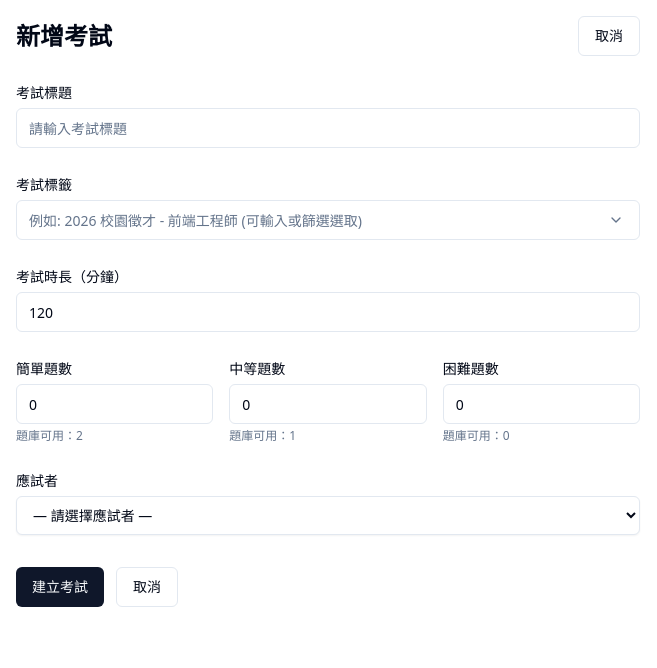
ExamFormPage › renders submit failure error message
The width and height of the screenshot is (657, 668).
Expected: the heading "新增考試" is shown, [16,20,112,52]
Type "Final Exam" into the field labelled "考試標題" at [328, 128], box [16,108,640,148]
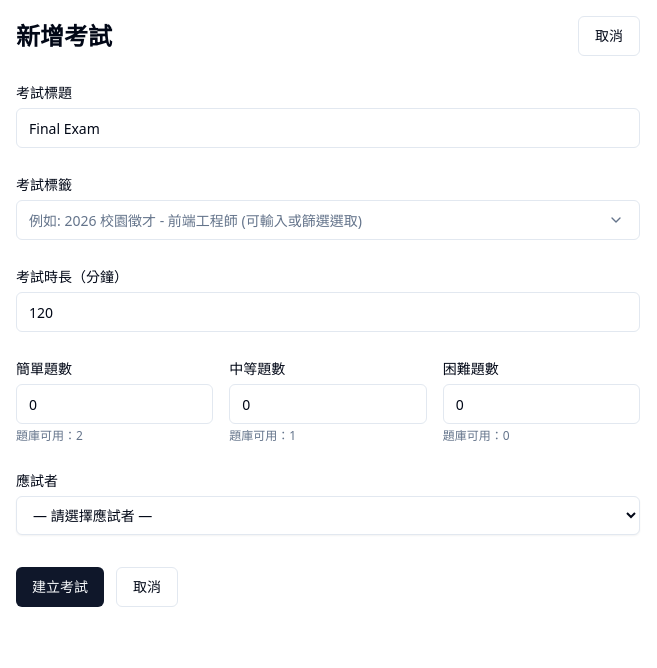
Select "Candidate One" in the dropdown labelled "應試者" at [328, 516], box [16,496,640,535]
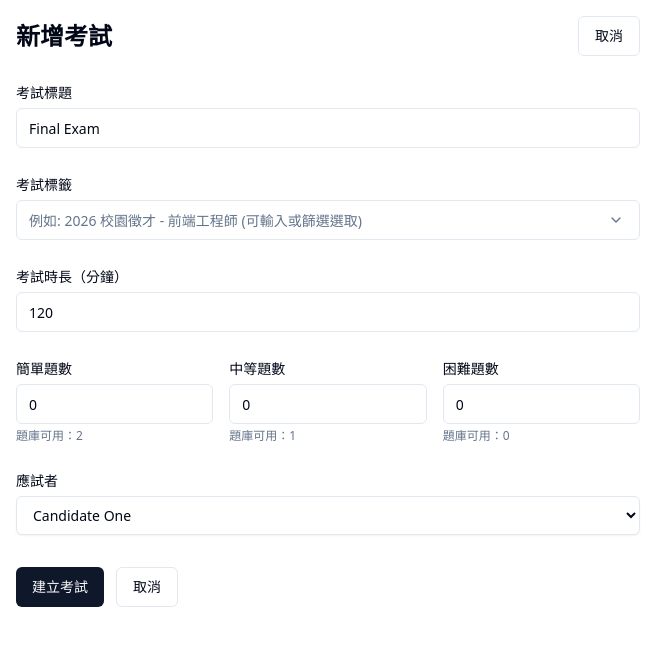
Click the button "建立考試" at [60, 587], box [16,567,104,607]
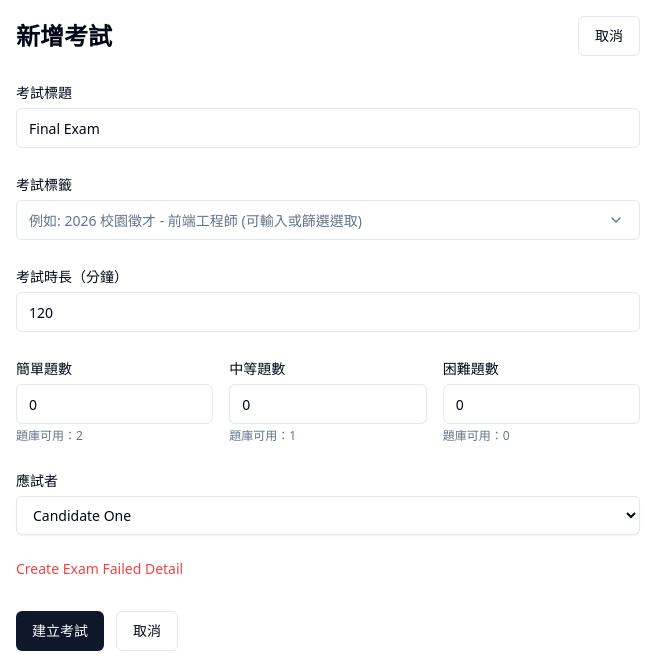
Expected: the text "Create Exam Failed Detail" is shown, [16,559,183,578]
